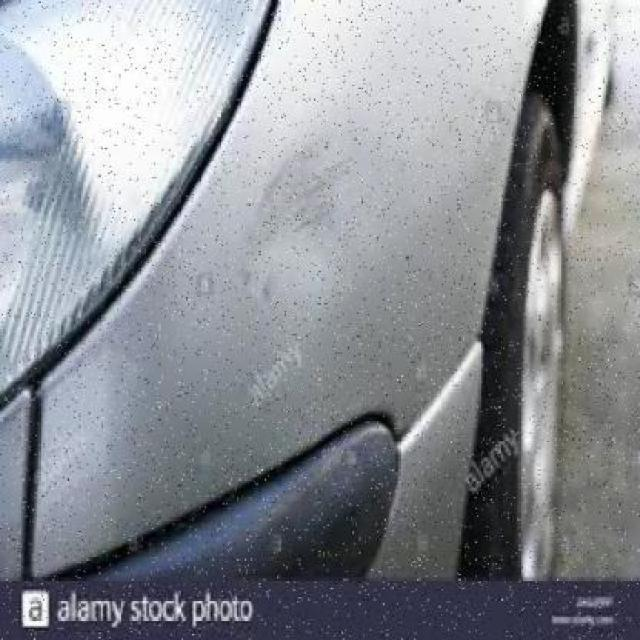fender-dent: (211, 0, 595, 587)
